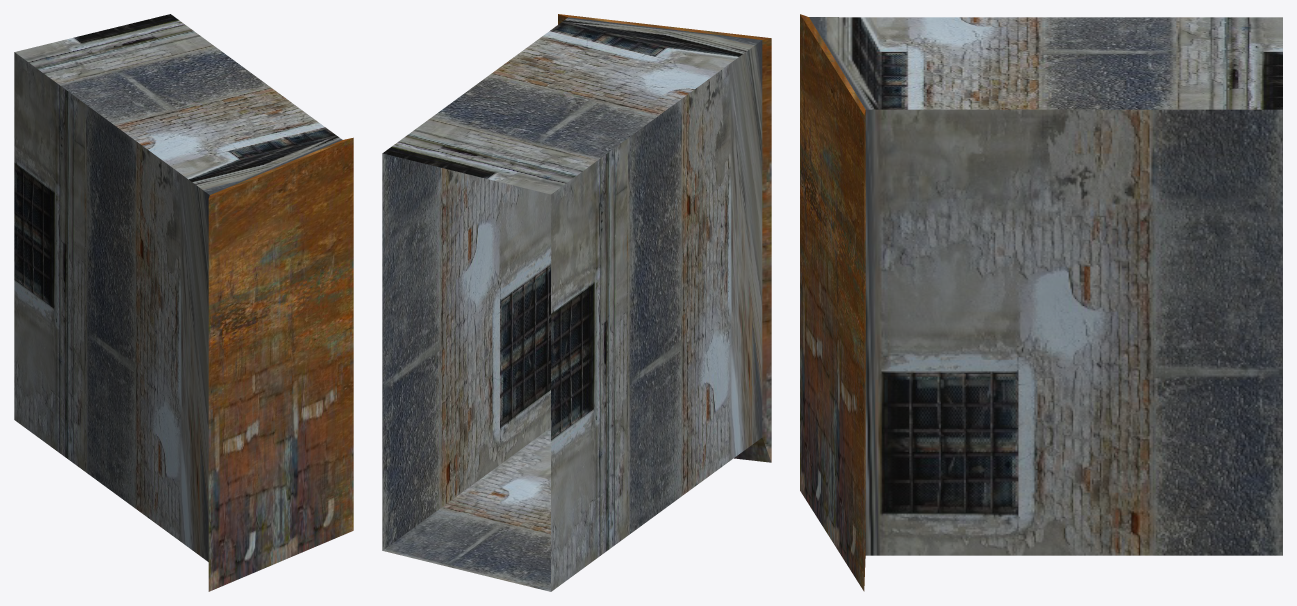
File: houseduchamp16_wtf.obj
The picture shows the model from 3 angles, left to right: view 1: azimuth 30°, elevation 25°; view 2: azimuth 150°, elevation 25°; view 3: azimuth 270°, elevation 25°; orthographic projection. The views are drawn at different scales.
Visible parts, largest first — view 1: group2; view 2: group2; view 3: group2.
Part boxes in pixels (bbox=[...]): group2: bbox=[14, 14, 353, 591]; group2: bbox=[382, 14, 771, 591]; group2: bbox=[800, 14, 1282, 591].
Size of the model in its own units: 301 by 660 by 606.
